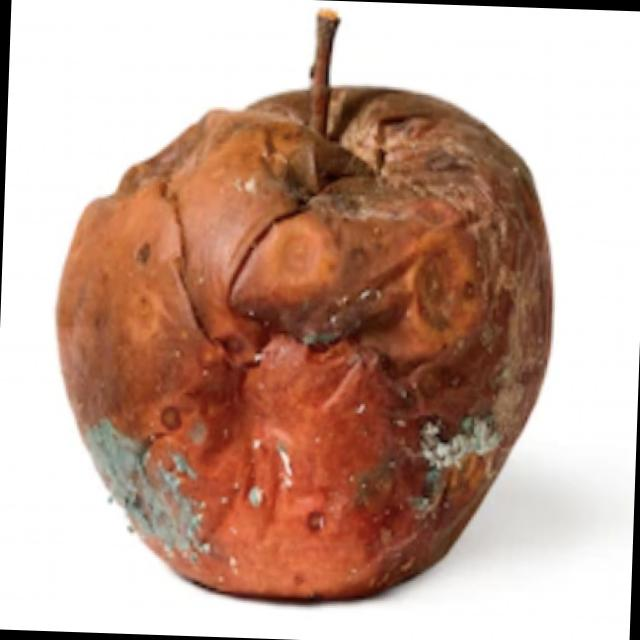rotten_apple: (46, 31, 564, 614)
